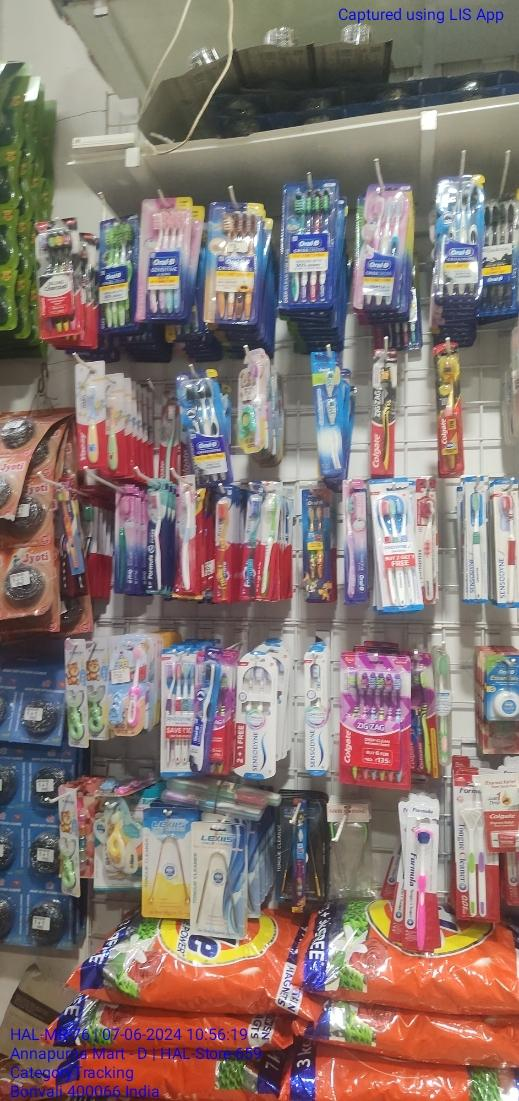10: (140, 200, 189, 319)
14: (161, 649, 195, 776)
4: (236, 652, 274, 779)
liquid soap: (32, 218, 82, 338)
